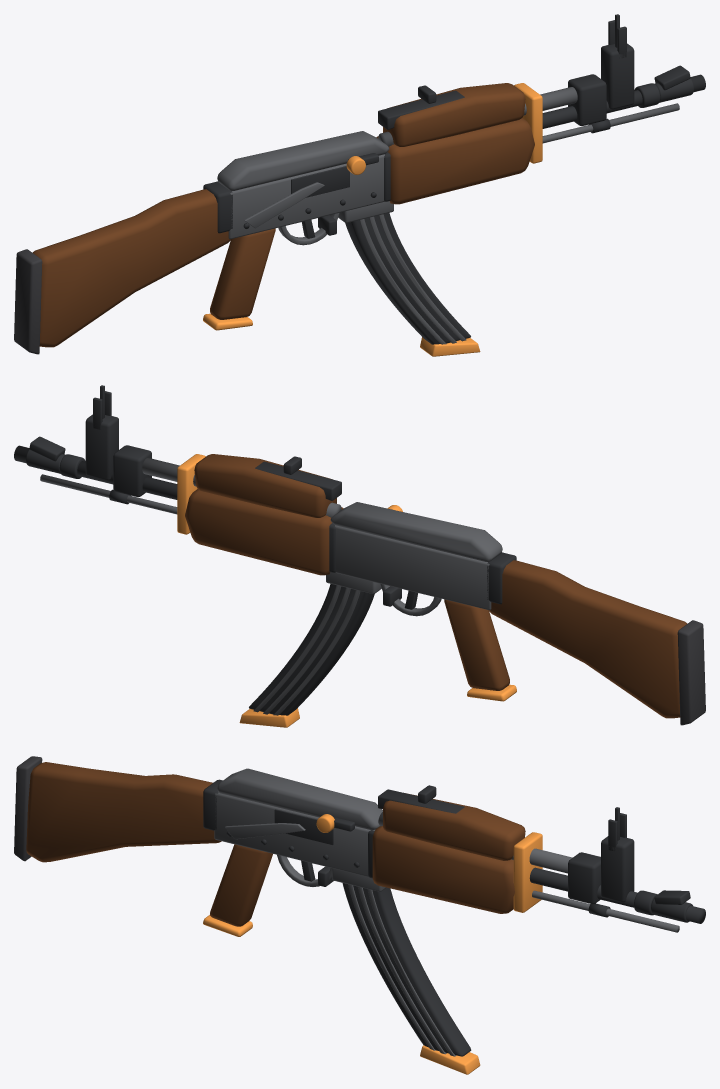
Rendered from rifle.glb.
3 renders of one model, top to bottom at view 1: azimuth 30°, elevation 25°; view 2: azimuth 150°, elevation 25°; view 3: azimuth 330°, elevation 25°, orthographic.
Visible parts, largest first — view 1: Stock, HandguardLower, Receiver, HandguardUpper, DustCover, Magazine, PistolGrip, ButtPlate, FrontSightBase, GasBlock, HandguardRetainer, EjectionPort (+12 smaller); view 2: Stock, HandguardLower, Receiver, HandguardUpper, DustCover, Magazine, PistolGrip, ButtPlate, FrontSightBase, GasBlock, HandguardRetainer, Barrel (+10 smaller); view 3: Stock, HandguardLower, Magazine, HandguardUpper, Receiver, DustCover, PistolGrip, FrontSightBase, HandguardRetainer, GasBlock, ButtPlate, Barrel (+13 smaller).
Boxes of the visible parts, x1=… form: Stock: x1=32, y1=189, x2=230, y2=347; HandguardLower: x1=376, y1=118, x2=534, y2=204; Receiver: x1=228, y1=154, x2=384, y2=239; HandguardUpper: x1=383, y1=83, x2=525, y2=146; DustCover: x1=217, y1=131, x2=389, y2=190; Magazine: x1=345, y1=212, x2=470, y2=344; PistolGrip: x1=210, y1=228, x2=275, y2=319; ButtPlate: x1=14, y1=249, x2=42, y2=354; FrontSightBase: x1=601, y1=43, x2=634, y2=109; GasBlock: x1=568, y1=74, x2=606, y2=125; HandguardRetainer: x1=514, y1=83, x2=542, y2=163; EjectionPort: x1=291, y1=166, x2=349, y2=197; Stock: x1=489, y1=560, x2=687, y2=718; HandguardLower: x1=185, y1=489, x2=343, y2=575; Receiver: x1=335, y1=525, x2=491, y2=610; HandguardUpper: x1=194, y1=454, x2=336, y2=517; DustCover: x1=330, y1=502, x2=502, y2=561; Magazine: x1=249, y1=583, x2=374, y2=715; PistolGrip: x1=444, y1=599, x2=509, y2=690; ButtPlate: x1=677, y1=620, x2=705, y2=725; FrontSightBase: x1=85, y1=414, x2=118, y2=480; GasBlock: x1=113, y1=445, x2=151, y2=496; HandguardRetainer: x1=177, y1=454, x2=205, y2=534; Barrel: x1=14, y1=445, x2=177, y2=499; Stock: x1=26, y1=762, x2=221, y2=862; HandguardLower: x1=372, y1=826, x2=514, y2=913; Magazine: x1=342, y1=883, x2=471, y2=1056; HandguardUpper: x1=383, y1=793, x2=525, y2=860; Receiver: x1=214, y1=792, x2=374, y2=876; DustCover: x1=217, y1=768, x2=382, y2=830; PistolGrip: x1=210, y1=844, x2=272, y2=926; FrontSightBase: x1=601, y1=836, x2=634, y2=902; HandguardRetainer: x1=513, y1=832, x2=542, y2=912; GasBlock: x1=568, y1=852, x2=600, y2=904; ButtPlate: x1=14, y1=756, x2=42, y2=861; Barrel: x1=529, y1=867, x2=705, y2=923.
Size of what is drawn, in the model's own units: 0.9909 by 0.4137 by 0.075.
